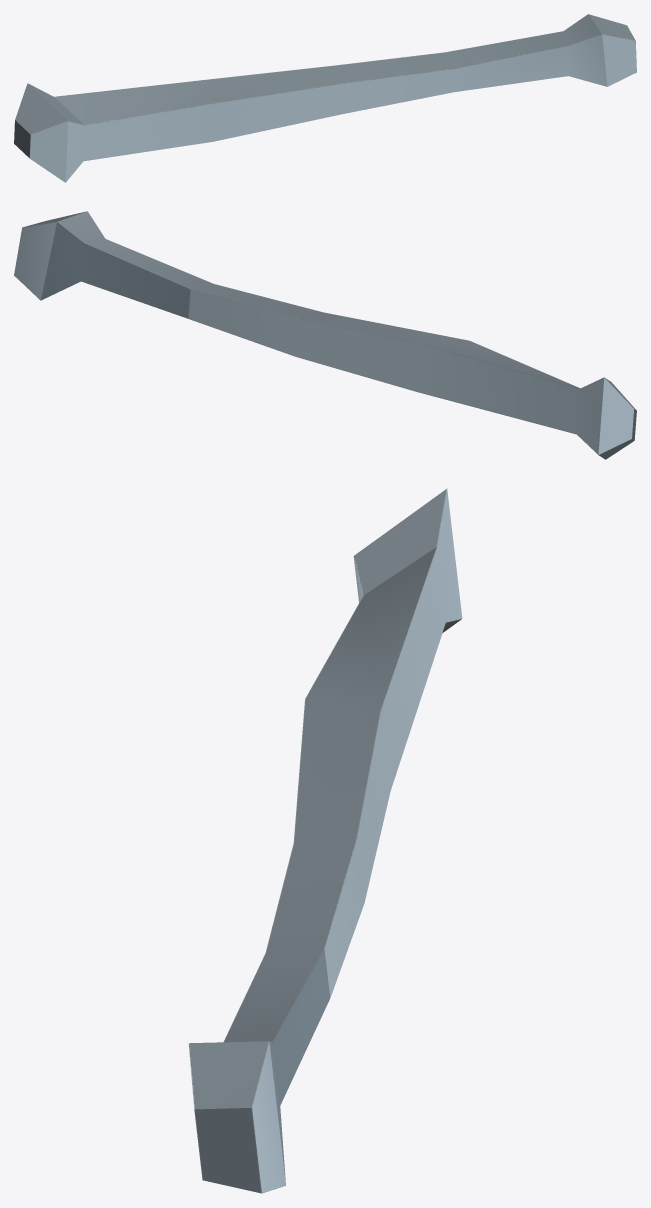
File: Bone2.fbx
3 views of the same model, one above another, from view 1: azimuth 30°, elevation 25°; view 2: azimuth 150°, elevation 25°; view 3: azimuth 270°, elevation 25° (orthographic). The views are drawn at different scales.
Parts seen in each view (by area): view 1: Bone002; view 2: Bone002; view 3: Bone002.
Part boxes in pixels (x1,y1,x2,y2): Bone002: (14, 14, 636, 182); Bone002: (14, 211, 636, 459); Bone002: (188, 488, 462, 1193).
Size of the model in its own units: 12.51 by 2.58 by 1.91.
